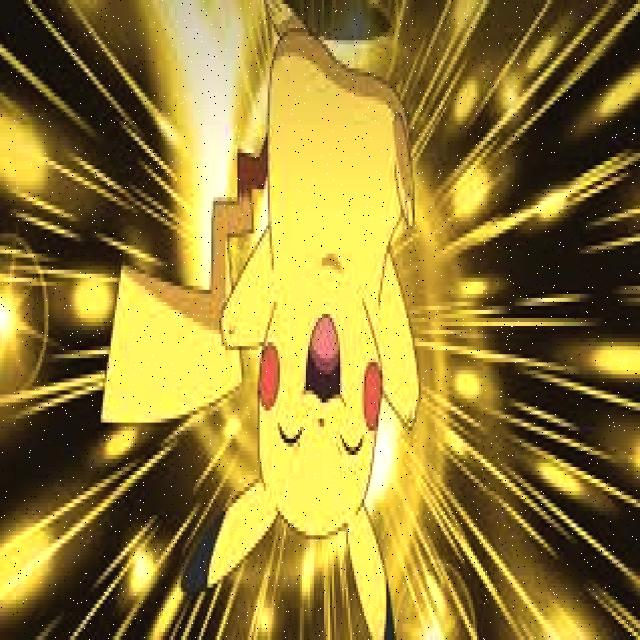pikachu: (102, 0, 425, 640)
